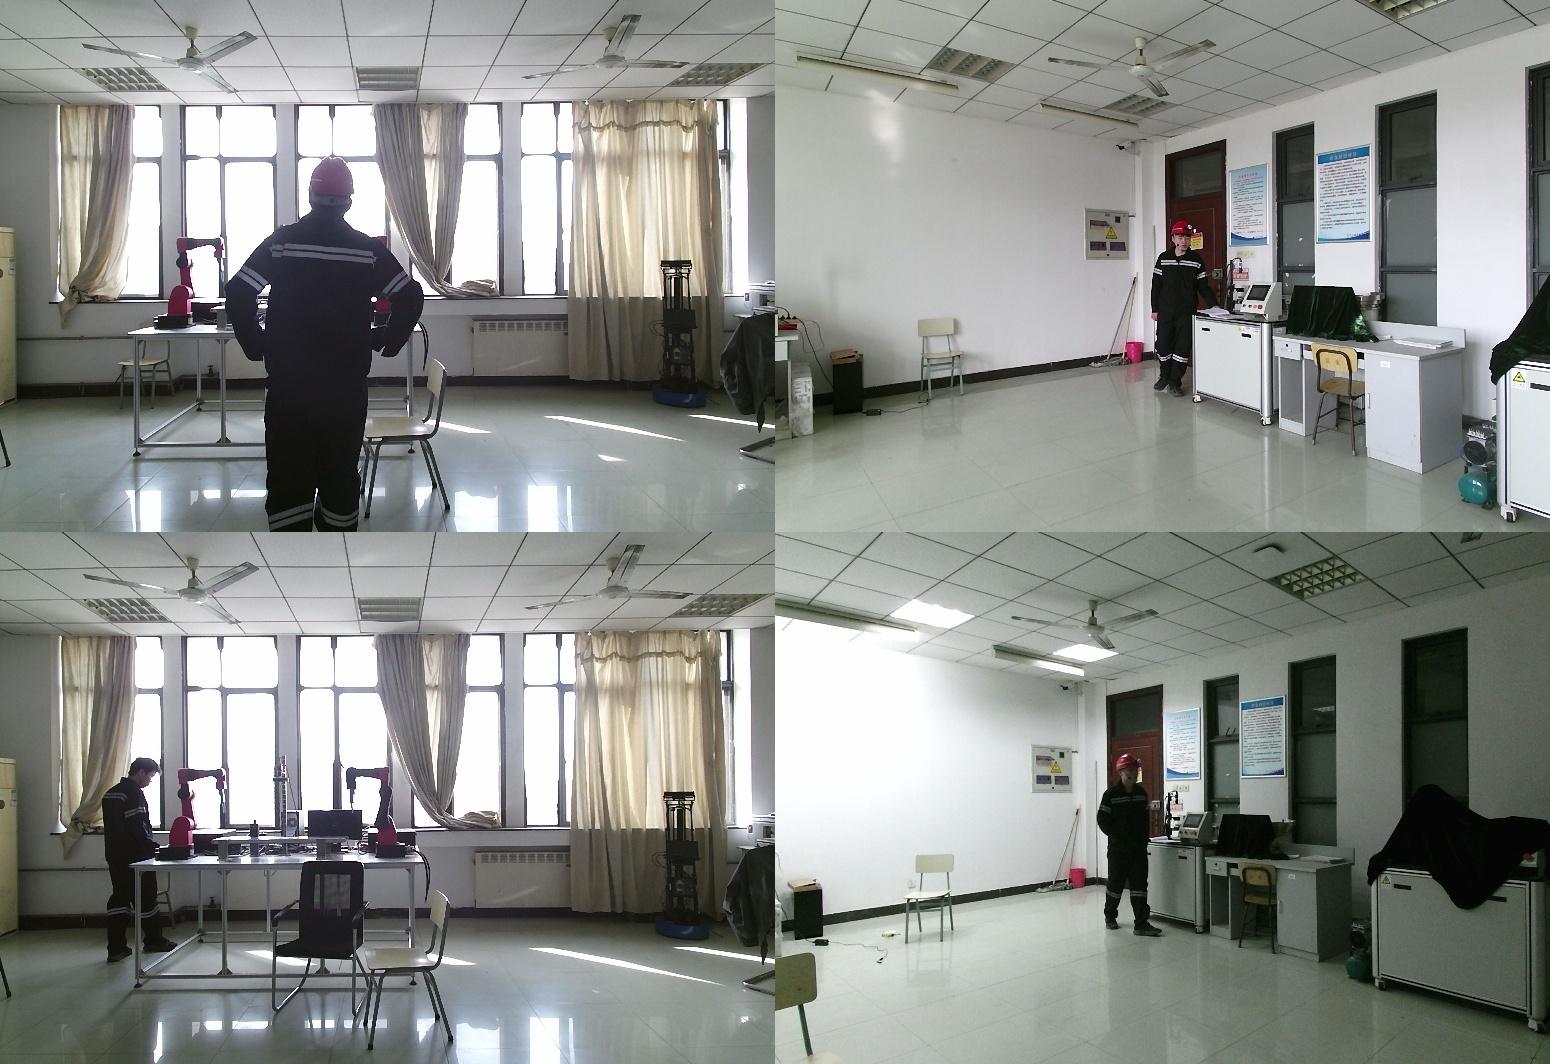person: (225, 157, 441, 532), (94, 757, 177, 963), (1085, 757, 1165, 941), (1151, 221, 1221, 400)
